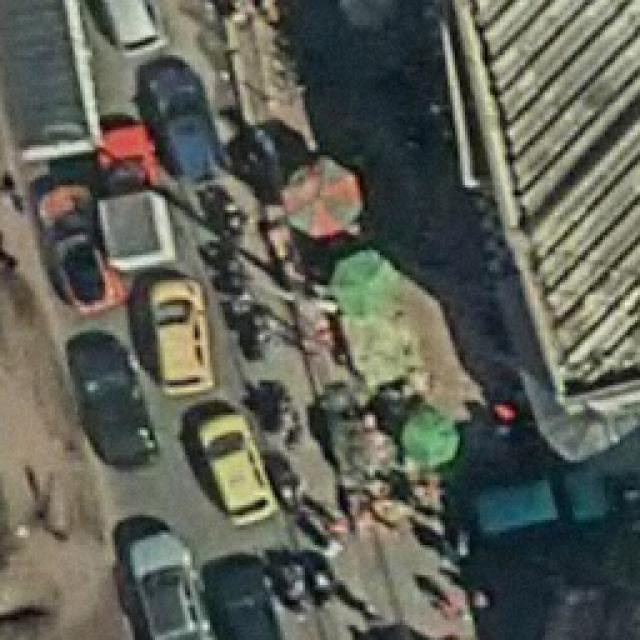vendedor_ambulante: (272, 149, 372, 246), (325, 246, 406, 322), (395, 395, 464, 473)
